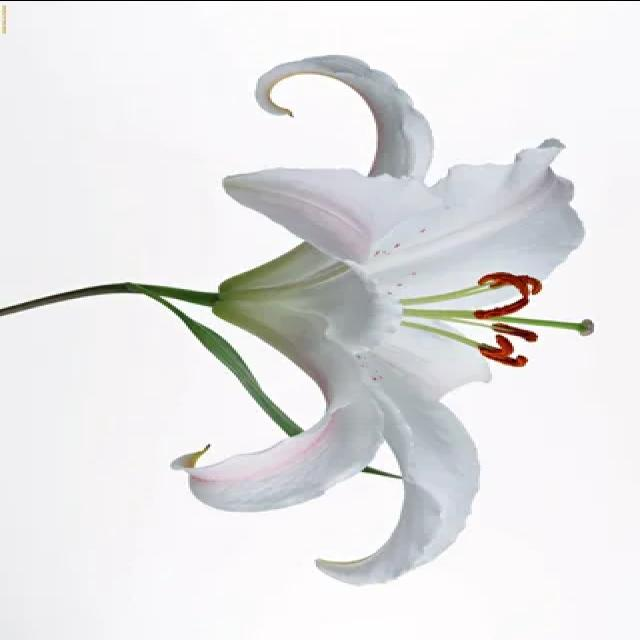lily: (164, 36, 604, 605)
